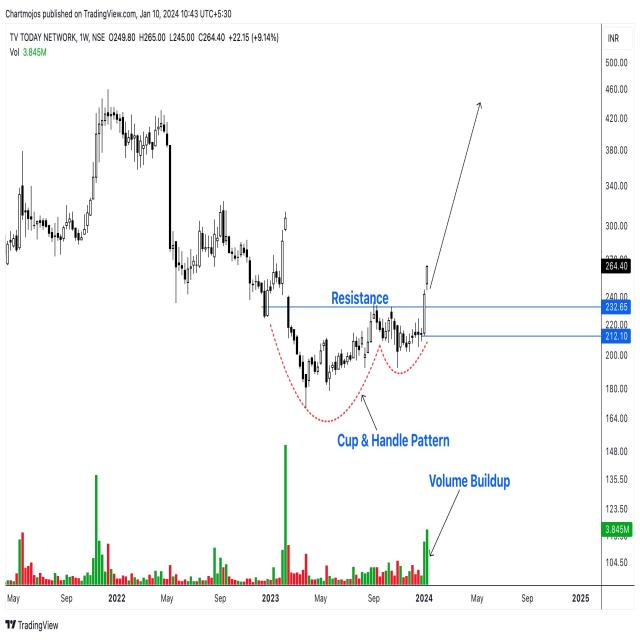Cup-and-handle: (282, 304, 430, 412)
